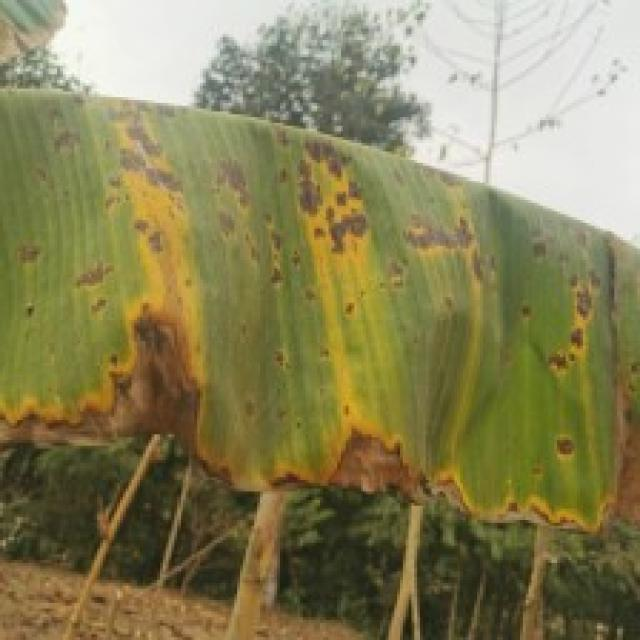Downey_mildrew: (0, 89, 640, 552)
